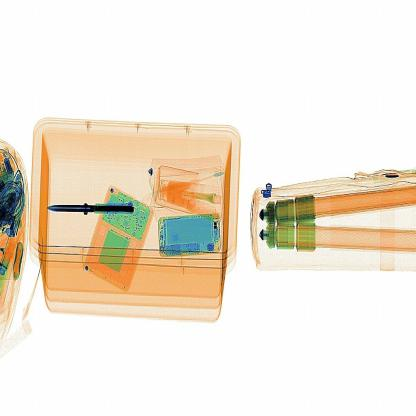gun: (34, 194, 139, 230)
